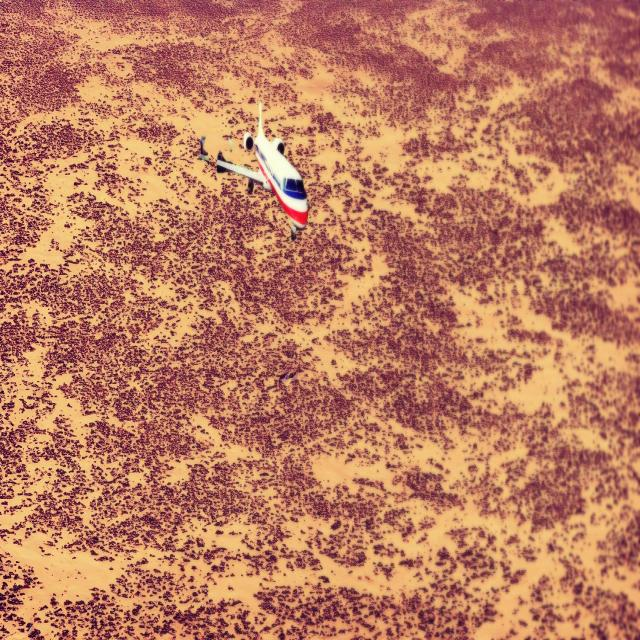airplane: (198, 100, 308, 240)
